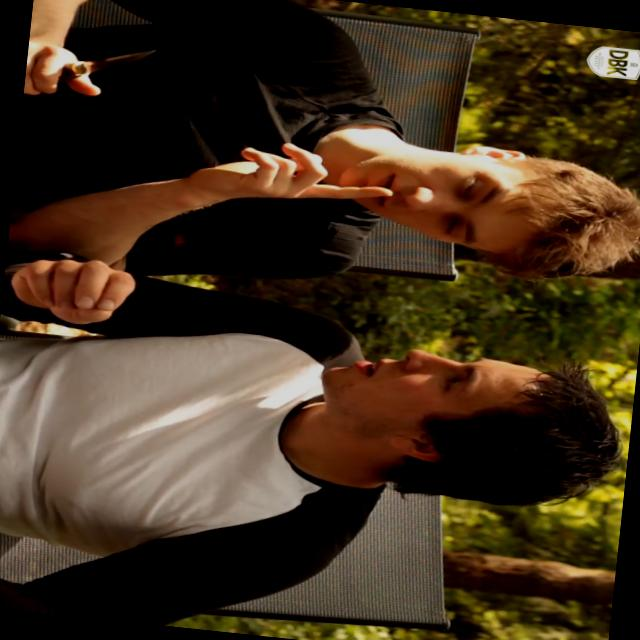knife: (22, 26, 174, 115)
